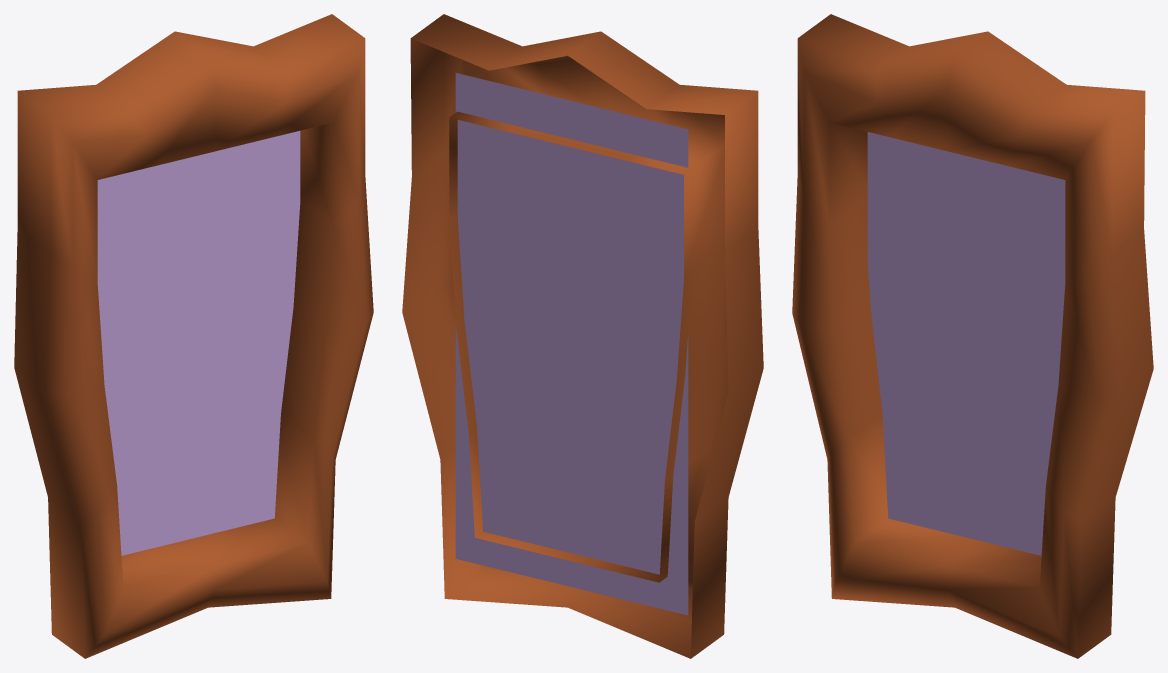
File: props_wall_painting_frame_8.fbx
3 views of the same model, side by side, from view 1: azimuth 30°, elevation 25°; view 2: azimuth 150°, elevation 25°; view 3: azimuth 330°, elevation 25° (orthographic).
Parts seen in each view (by area): view 1: Cube.109; view 2: Cube.109; view 3: Cube.109.
Part boxes in pixels (left/top/right/bottom): Cube.109: left=14, top=14, right=373, bottom=658; Cube.109: left=402, top=14, right=763, bottom=658; Cube.109: left=792, top=14, right=1153, bottom=658.
Bounding box in the file's own units: 85.04 × 142 × 18.57.
